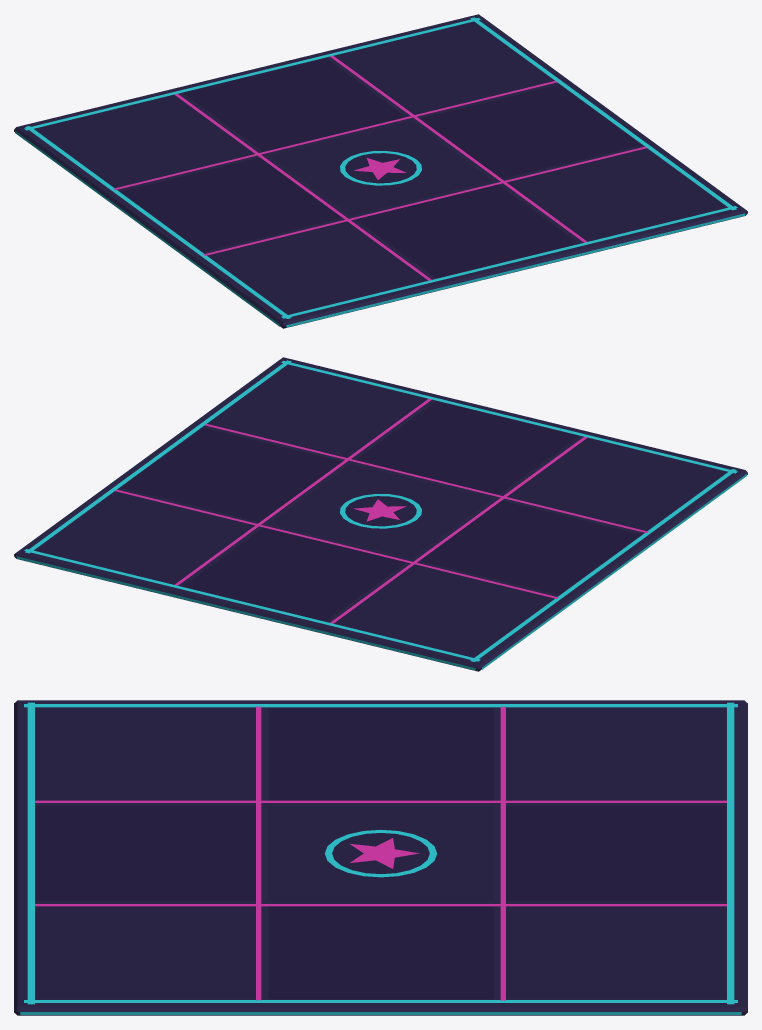
Rendered from neon-plotfloor.glb.
3 renders of one model, top to bottom at view 1: azimuth 30°, elevation 25°; view 2: azimuth 150°, elevation 25°; view 3: azimuth 270°, elevation 25°, orthographic. The views are drawn at different scales.
Visible parts, largest first — view 1: neon-plotfloor; view 2: neon-plotfloor; view 3: neon-plotfloor.
Boxes of the visible parts, x1,y1,x2,y2 form: neon-plotfloor: (14,14,747,328); neon-plotfloor: (14,357,747,671); neon-plotfloor: (14,700,747,1015).
Size of the model in its own units: 6 by 0.0796 by 6.
